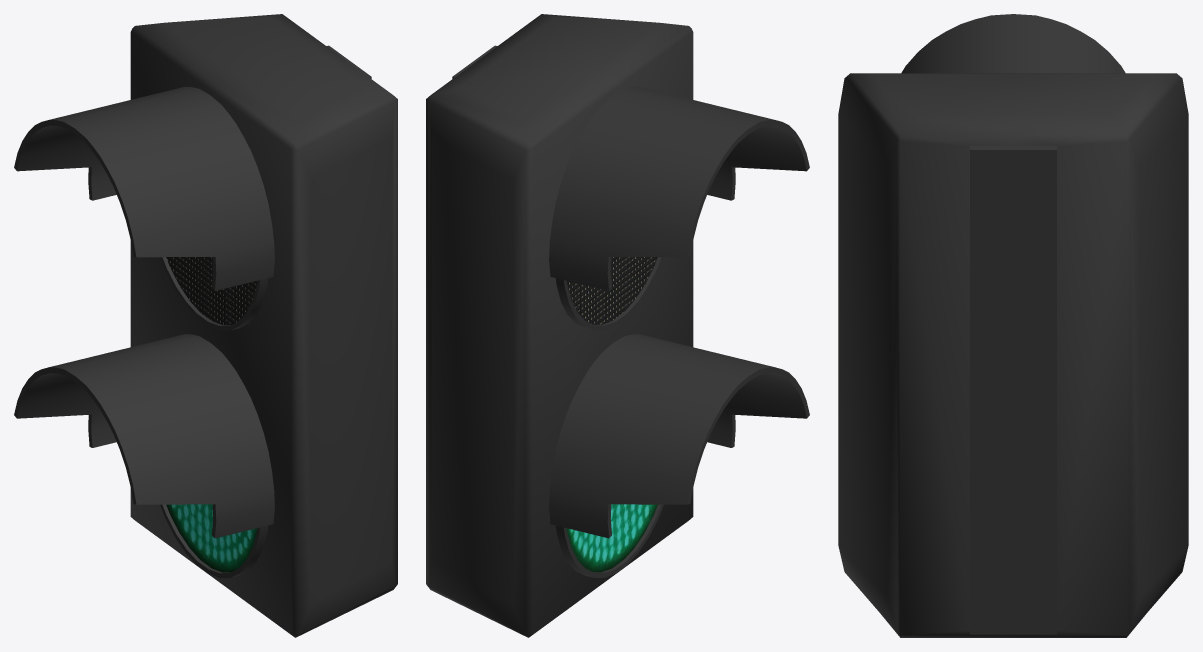
File: 双色指示灯_GreenLight.fbx
3 views of the same model, side by side, from view 1: azimuth 30°, elevation 25°; view 2: azimuth 150°, elevation 25°; view 3: azimuth 270°, elevation 25° (orthographic).
Parts seen in each view (by area): view 1: 双色指示灯_GreenLight; view 2: 双色指示灯_GreenLight; view 3: 双色指示灯_GreenLight.
Boxes of the visible parts, x1,y1,x2,y2 form: 双色指示灯_GreenLight: [14, 14, 397, 637]; 双色指示灯_GreenLight: [426, 14, 809, 637]; 双色指示灯_GreenLight: [838, 14, 1188, 637].
Bounding box in the file's own units: 0.6 × 1.06 × 0.65.
3 materials, 2 textured.
